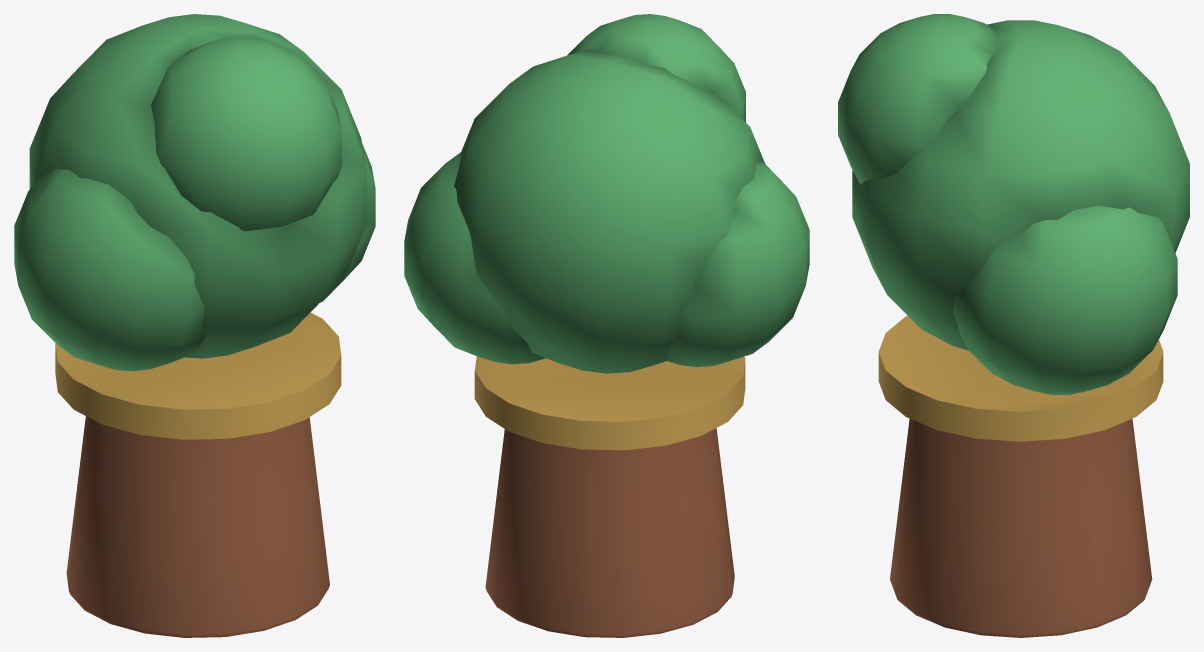
Rendered from plant-pot-round.glb.
3 renders of one model, left to right at view 1: azimuth 30°, elevation 25°; view 2: azimuth 150°, elevation 25°; view 3: azimuth 270°, elevation 25°, orthographic. The views are drawn at different scales.
Parts seen in each view (by area): view 1: plant-pot-round; view 2: plant-pot-round; view 3: plant-pot-round.
Boxes of the visible parts, x1,y1,x2,y2 form: plant-pot-round: [14, 14, 375, 637]; plant-pot-round: [404, 14, 809, 637]; plant-pot-round: [838, 14, 1189, 637].
Bounding box in the file's own units: 0.6882 × 1.03 × 0.587.
